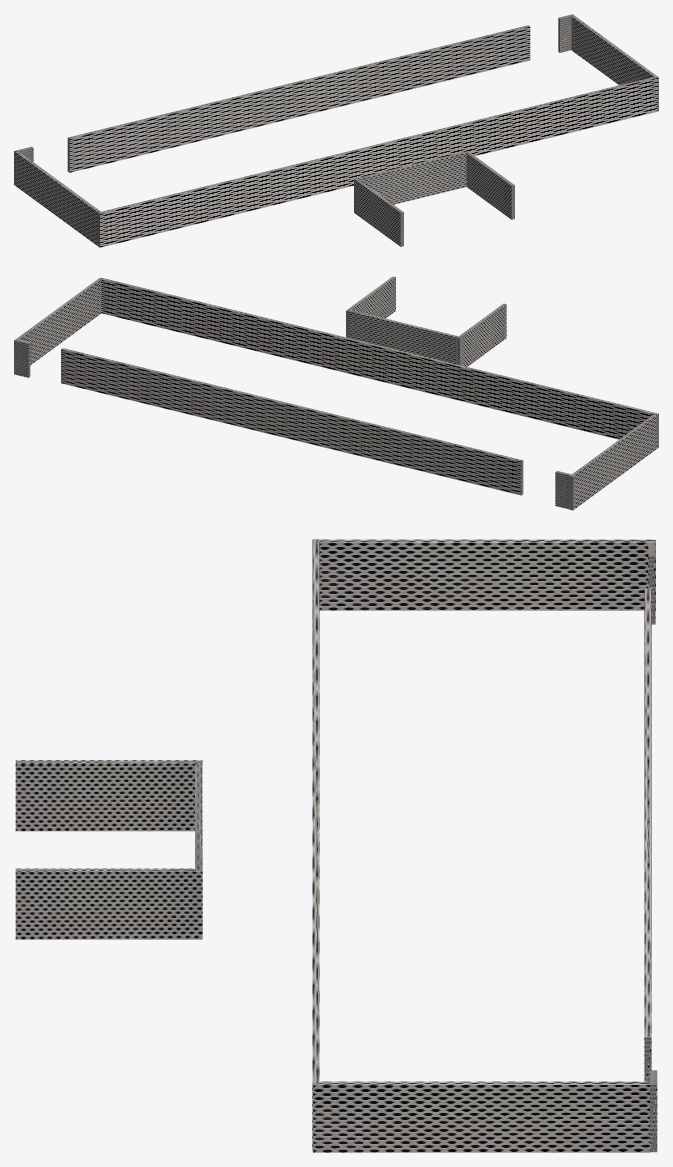
Rendered from Barandilla.obj.
3 renders of one model, top to bottom at view 1: azimuth 30°, elevation 25°; view 2: azimuth 150°, elevation 25°; view 3: azimuth 270°, elevation 25°, orthographic. The views are drawn at different scales.
Visible parts, largest first — view 1: Box045, Box044, Box053, Box048, Box046, Box052, Box051, Box047; view 2: Box045, Box044, Box048, Box053, Box046, Box052, Box051, Box047, Box049; view 3: Box046, Box048, Box051, Box052, Box045, Box044.
Boxes of the visible parts, <box> form: Box045: <box>98,76,657,247</box>; Box044: <box>67,25,530,172</box>; Box053: <box>358,151,466,204</box>; Box048: <box>14,150,100,245</box>; Box046: <box>571,15,658,111</box>; Box052: <box>354,178,403,246</box>; Box051: <box>465,151,514,219</box>; Box047: <box>558,14,574,52</box>; Box045: <box>100,277,658,448</box>; Box044: <box>61,348,523,495</box>; Box048: <box>569,414,656,510</box>; Box053: <box>349,310,457,364</box>; Box046: <box>16,277,101,365</box>; Box052: <box>456,303,506,366</box>; Box051: <box>346,276,395,337</box>; Box047: <box>14,339,30,377</box>; Box049: <box>555,471,571,509</box>; Box046: <box>313,1081,649,1152</box>; Box048: <box>319,539,655,610</box>; Box051: <box>15,868,202,939</box>; Box052: <box>15,760,202,831</box>; Box045: <box>312,539,319,1151</box>; Box044: <box>644,588,651,1081</box>.
Size of the model in its own units: 172 by 10.39 by 85.73.
1 material, 1 textured.
